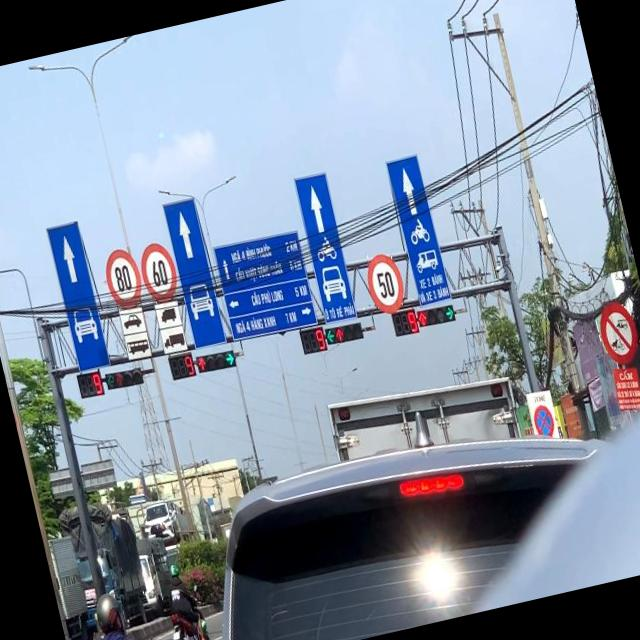P-127: (364, 248, 409, 318)
